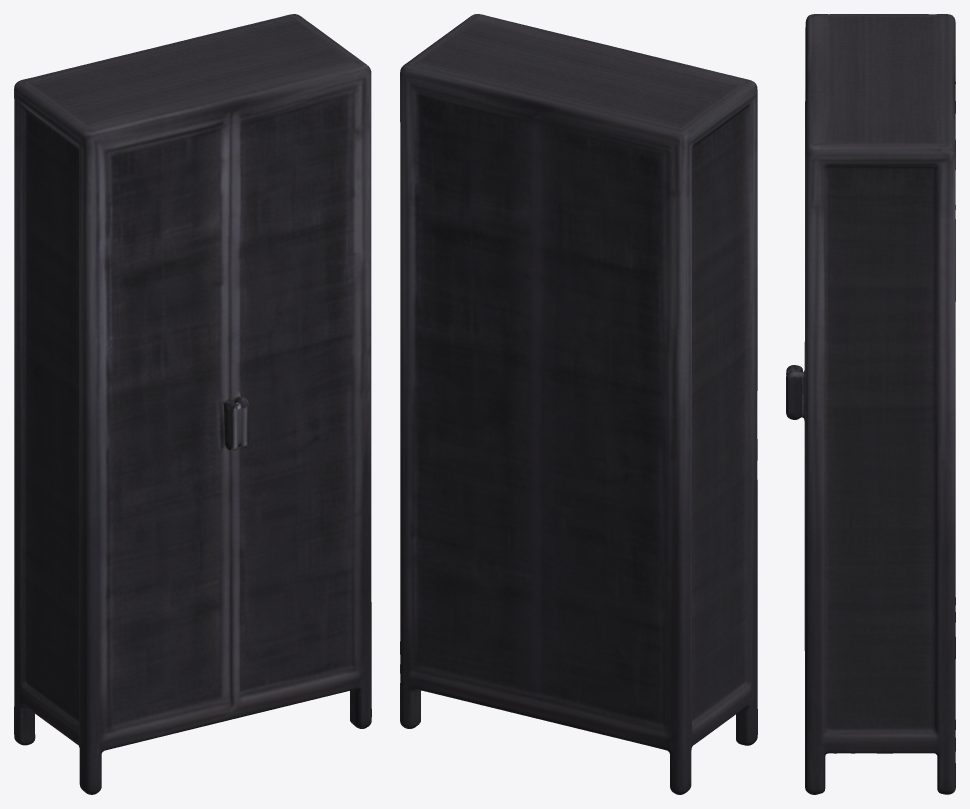
File: product-bohemian-caprice-black-natural-cane-narrow-cabinet-09.glb
The picture shows the model from 3 angles, left to right: view 1: azimuth 30°, elevation 25°; view 2: azimuth 150°, elevation 25°; view 3: azimuth 270°, elevation 25°; orthographic projection. The views are drawn at different scales.
Parts seen in each view (by area): view 1: geometry_0; view 2: geometry_0; view 3: geometry_0.
Boxes of the visible parts, x1,y1,x2,y2 form: geometry_0: (14,14,371,794); geometry_0: (400,14,757,794); geometry_0: (786,14,955,794).
Size of the model in its own units: 0.8928 by 1.97 by 0.4679.
1 material, 1 textured.
